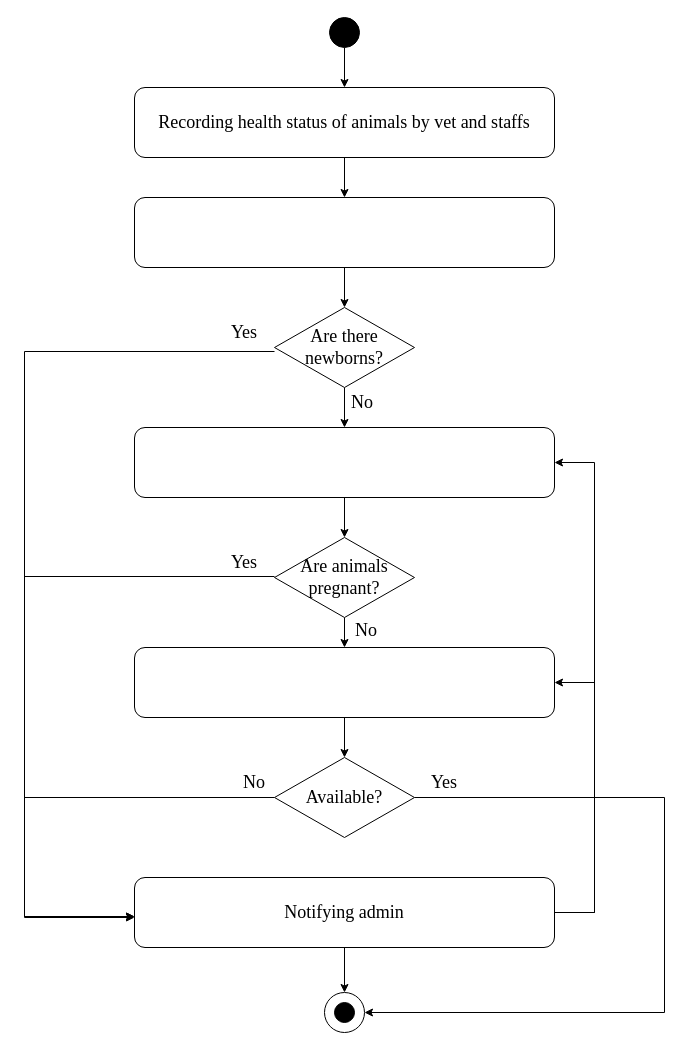
Image size: 690x1050. Some labels were removed from this diagram. The box of each missing label's shape, as (x1, y1, x2, y2) in pixels:
Special tracking of pregnant animals: (134, 426, 554, 498)
Tracking essential medecines & vaccines in stock: (134, 646, 554, 718)
Tracking newborn animals' movement: (134, 196, 554, 268)
